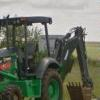Tractor: (4, 10, 82, 99)
